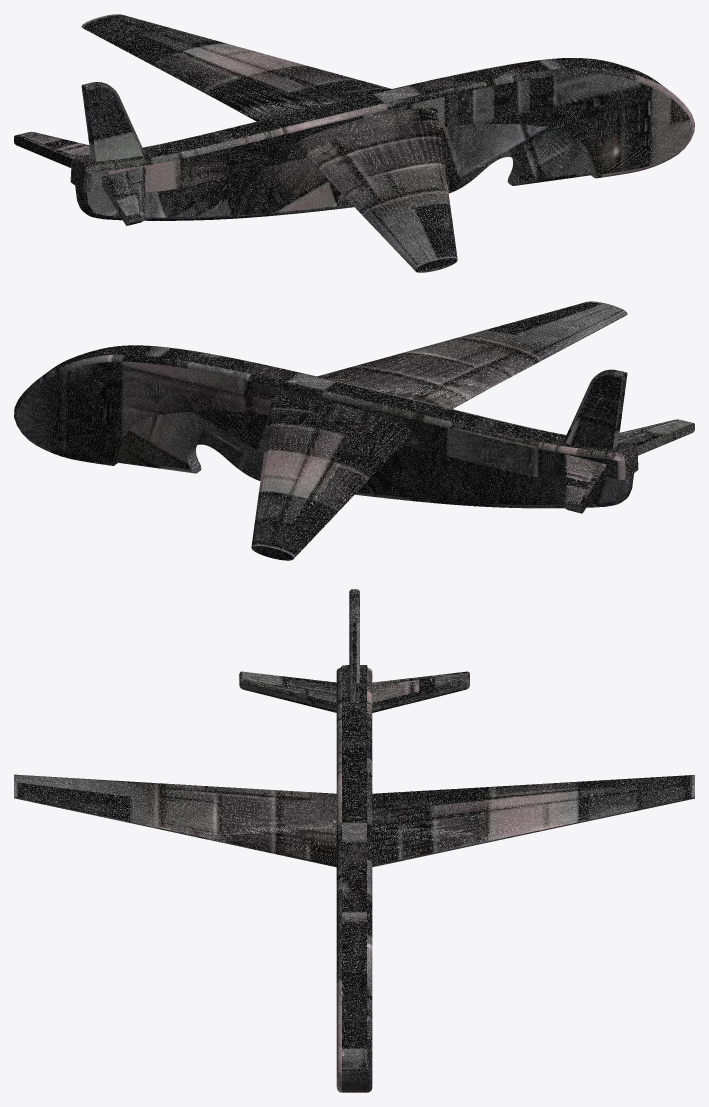
3 views of the same model, one above another, from view 1: azimuth 30°, elevation 25°; view 2: azimuth 150°, elevation 25°; view 3: azimuth 270°, elevation 25° (orthographic). The views are drawn at different scales.
Visible parts, largest first — view 1: mesh1.002_mesh1-geometry; view 2: mesh1.002_mesh1-geometry; view 3: mesh1.002_mesh1-geometry.
Boxes of the visible parts, x1=… form: mesh1.002_mesh1-geometry: x1=14, y1=14, x2=694, y2=272; mesh1.002_mesh1-geometry: x1=14, y1=301, x2=694, y2=560; mesh1.002_mesh1-geometry: x1=14, y1=589, x2=694, y2=1092.
Size of the model in its own units: 0.7099 by 0.2353 by 0.6638.
